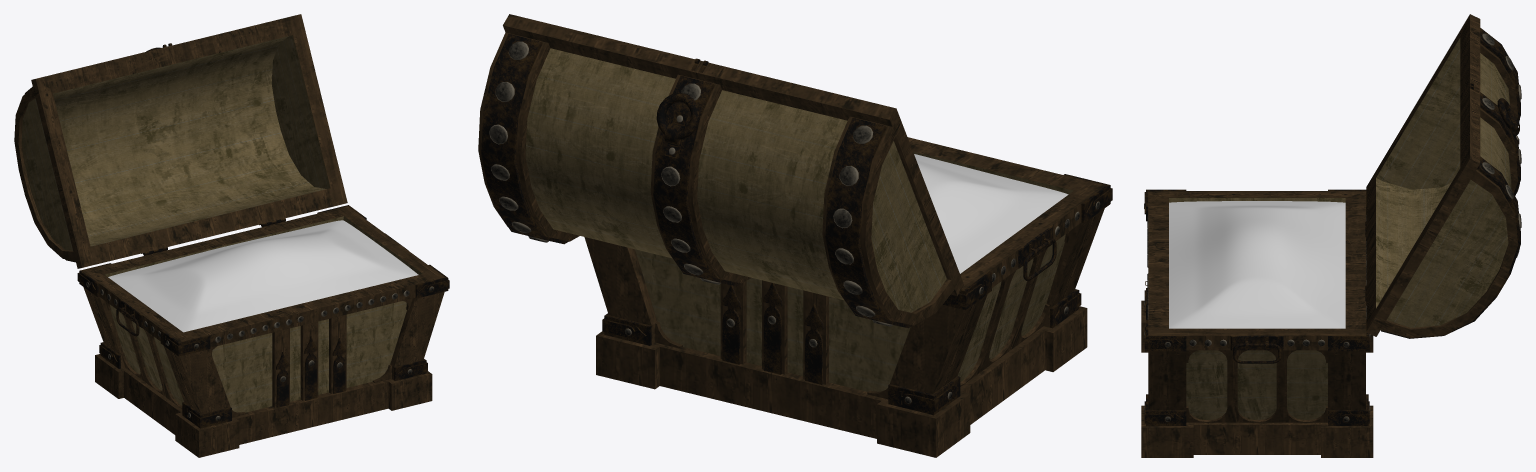
The model's file is treasurechest 1.fbx.
3 views of the same model, side by side, from view 1: azimuth 30°, elevation 25°; view 2: azimuth 150°, elevation 25°; view 3: azimuth 270°, elevation 25° (orthographic). The views are drawn at different scales.
Visible parts, largest first — view 1: Chest, Lid; view 2: Lid, Chest; view 3: Chest, Lid.
Part boxes in pixels (x1,y1,x2,y2): Chest: [77, 205, 449, 457]; Lid: [14, 14, 347, 268]; Lid: [478, 14, 963, 328]; Chest: [584, 137, 1112, 457]; Chest: [1141, 189, 1373, 457]; Lid: [1365, 14, 1521, 338].
Size of the model in its own units: 422 by 405 by 451.
